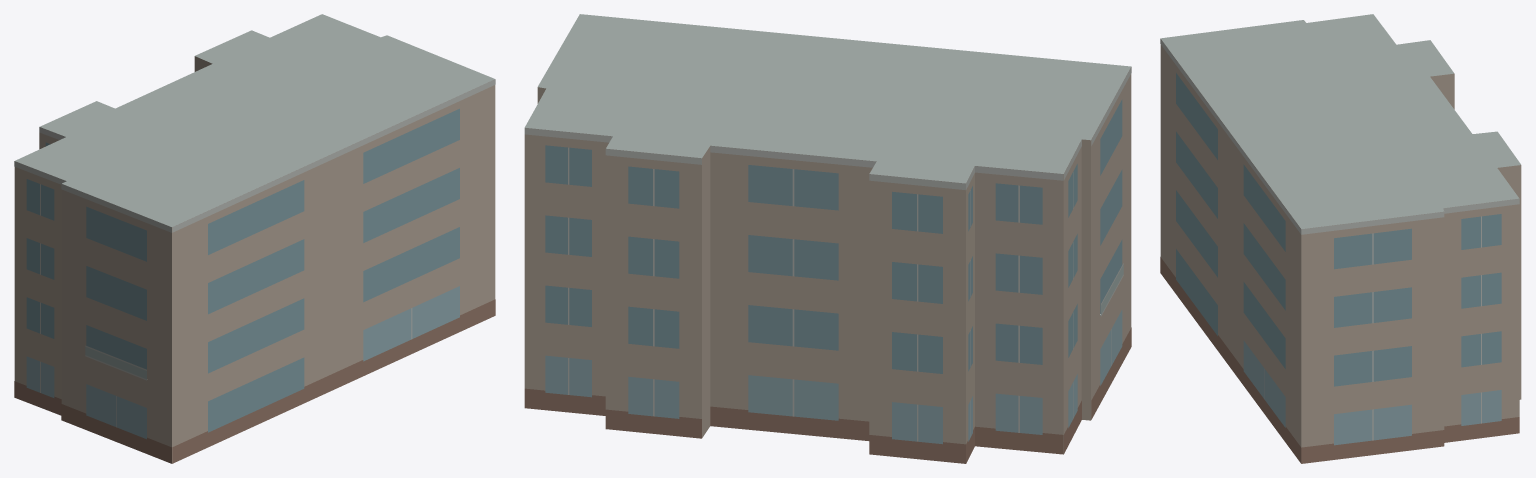
Rendered from survey-upis-32524706.glb.
3 renders of one model, left to right at view 1: azimuth 30°, elevation 25°; view 2: azimuth 150°, elevation 25°; view 3: azimuth 270°, elevation 25°, orthographic. The views are drawn at different scales.
Parts seen in each view (by area): view 1: survey-upis-32524706.tmp; view 2: survey-upis-32524706.tmp; view 3: survey-upis-32524706.tmp.
Part boxes in pixels (x1=…): survey-upis-32524706.tmp: x1=14, y1=14, x2=495, y2=463; survey-upis-32524706.tmp: x1=524, y1=14, x2=1131, y2=463; survey-upis-32524706.tmp: x1=1160, y1=14, x2=1521, y2=463.
Size of the model in its own units: 20.07 by 10.2 by 14.23.
